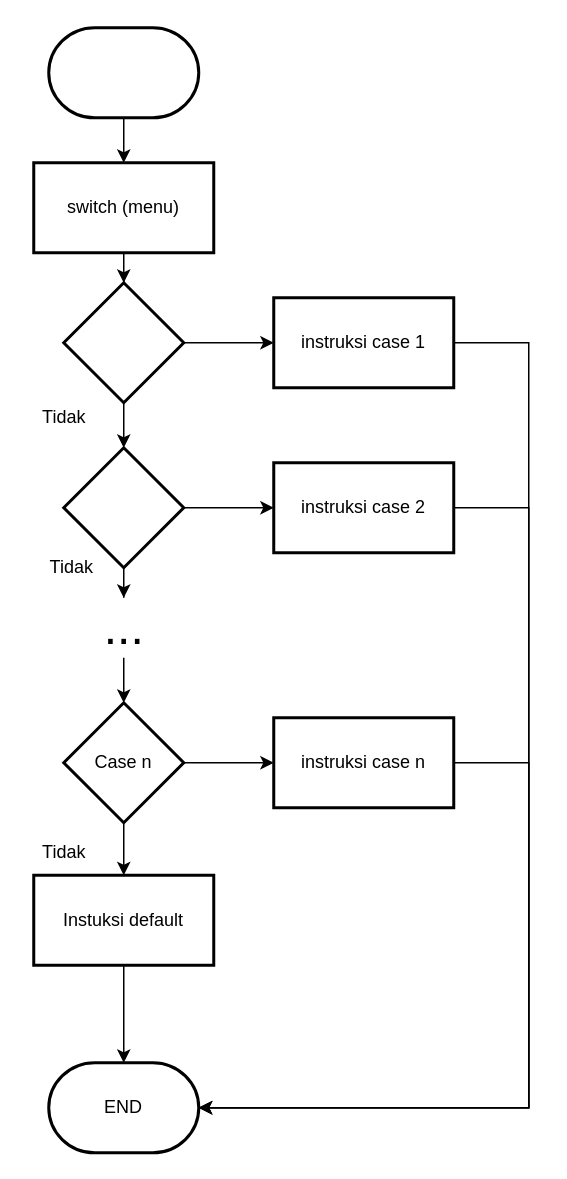
Image size: 567x1179. Some labels were removed from this diagram. Here are the shapes that lost their labels. From the top down, the box of each, then its label:
(46, 26, 200, 118): START
(62, 280, 184, 404): case 1
(62, 446, 184, 568): case 2
